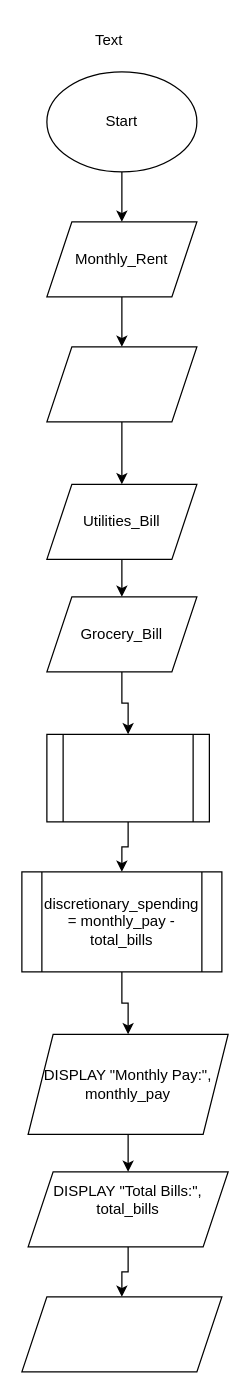
Image size: 250x1394. Some labels were removed from this diagram. Each missing label, with the box of its shape:
DISPLAY "Discretionary Spending:", discretionary_spending: (21, 1296, 222, 1372)
Rent_Bill: (46, 346, 197, 422)
total_bills = rent_bill + utilities_bill + grocery_bill: (46, 733, 209, 822)
